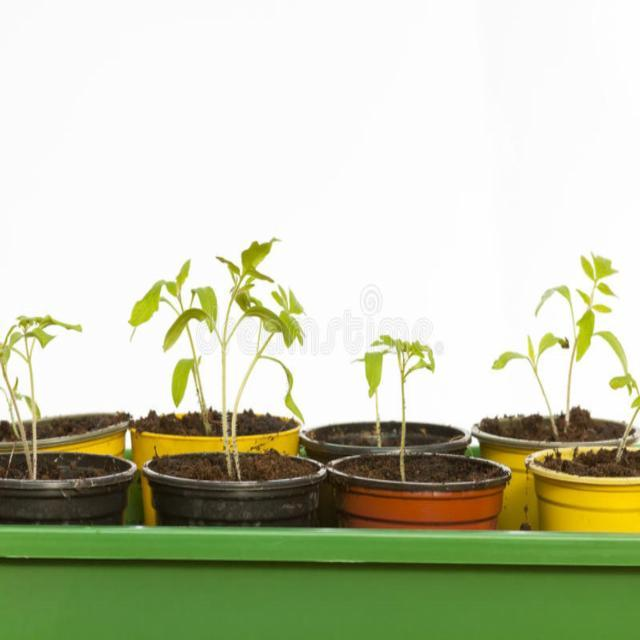plant: (129, 237, 304, 479), (536, 252, 640, 462), (12, 315, 81, 480), (362, 335, 435, 481), (493, 332, 571, 441)
